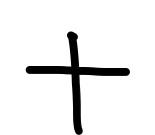plus: (26, 31, 130, 135)
